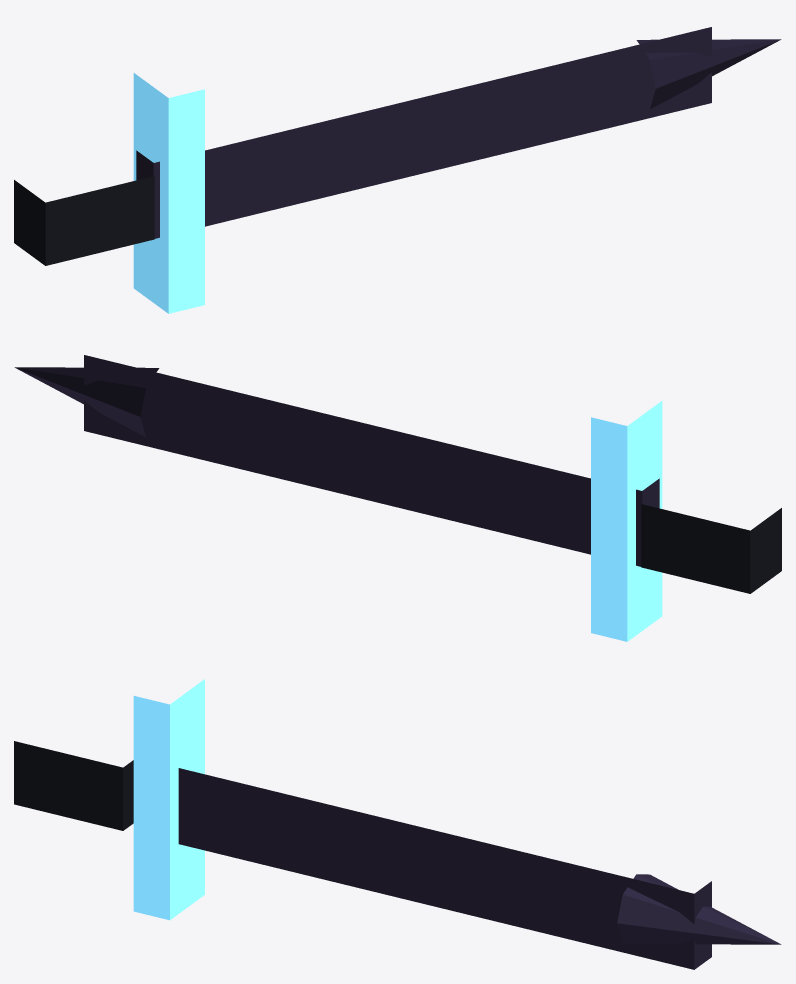
File: pangolier.glb
The picture shows the model from 3 angles, top to bottom: view 1: azimuth 30°, elevation 25°; view 2: azimuth 150°, elevation 25°; view 3: azimuth 330°, elevation 25°; orthographic projection.
Parts seen in each view (by area): view 1: pangolier-blade, pangolier-guard, pangolier-grip, pangolier-tip; view 2: pangolier-blade, pangolier-guard, pangolier-grip, pangolier-tip; view 3: pangolier-blade, pangolier-guard, pangolier-grip, pangolier-tip.
Part boxes in pixels (bbox=[...]): pangolier-blade: bbox=[136, 27, 711, 238]; pangolier-guard: bbox=[133, 73, 204, 313]; pangolier-grip: bbox=[14, 176, 154, 265]; pangolier-tip: bbox=[636, 39, 781, 109]; pangolier-blade: bbox=[84, 355, 659, 566]; pangolier-guard: bbox=[591, 401, 662, 641]; pangolier-grip: bbox=[641, 504, 781, 593]; pangolier-tip: bbox=[14, 367, 159, 437]; pangolier-blade: bbox=[178, 768, 711, 969]; pangolier-guard: bbox=[133, 679, 204, 920]; pangolier-grip: bbox=[14, 741, 133, 830]; pangolier-tip: bbox=[617, 874, 781, 944].
Size of the model in its own units: 1.24 by 0.34 by 0.11.
